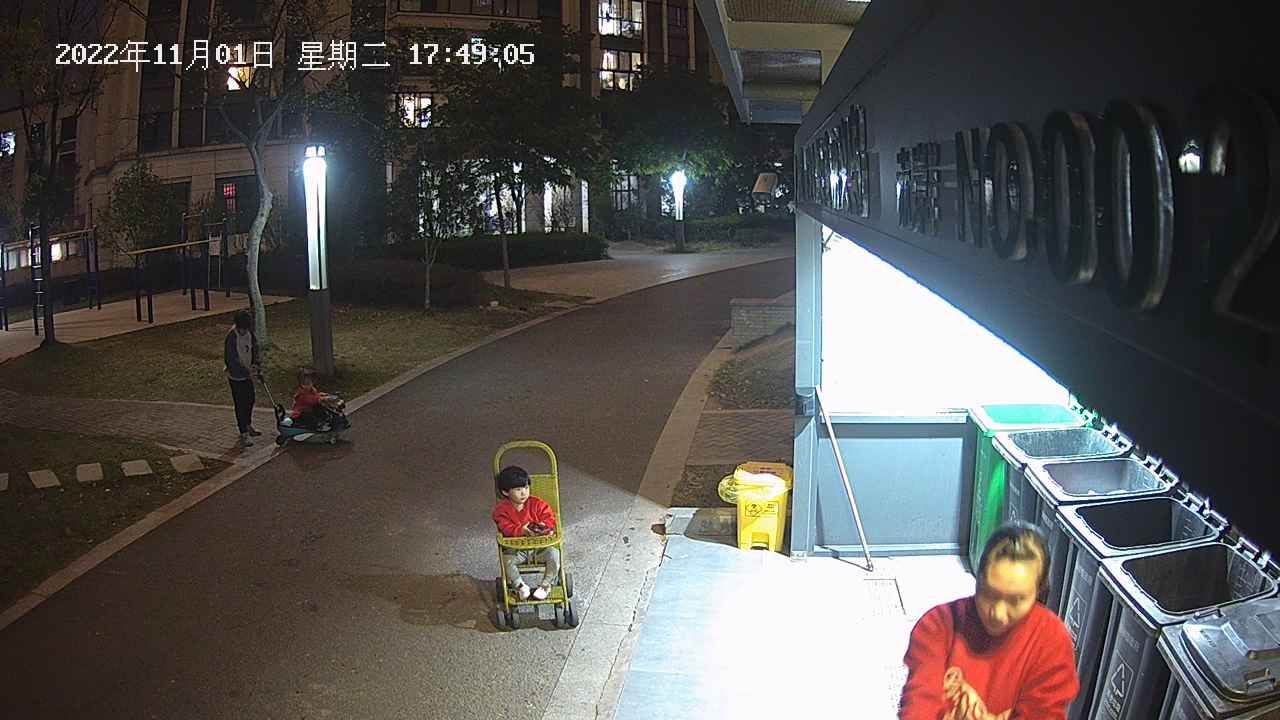person: (895, 520, 1080, 720), (491, 463, 560, 602)
